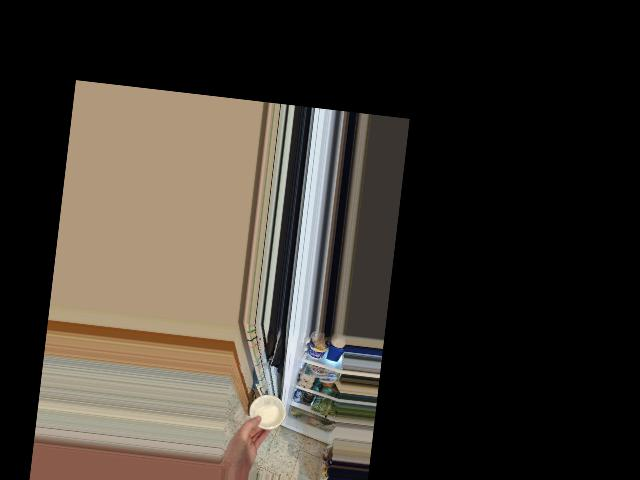cotage: (249, 393, 286, 429)
